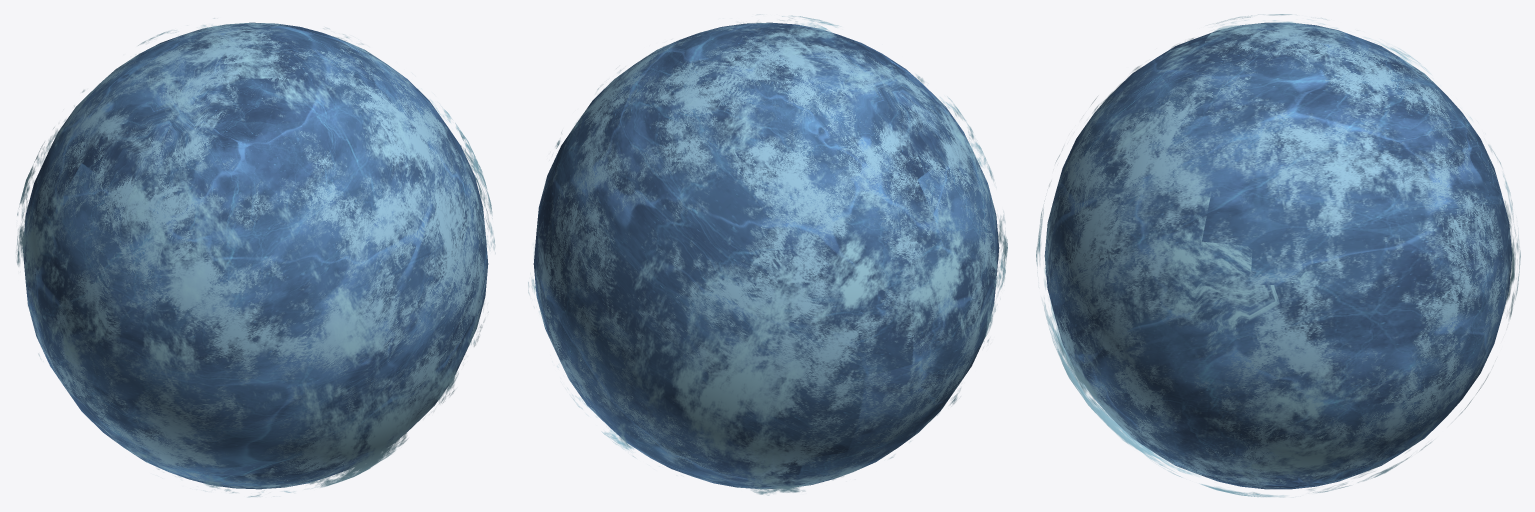
Rendered from Wait.glb.
The picture shows the model from 3 angles, left to right: view 1: azimuth 30°, elevation 25°; view 2: azimuth 150°, elevation 25°; view 3: azimuth 270°, elevation 25°; orthographic projection.
Visible parts, largest first — view 1: WAIt .001, wait ATMOS.001; view 2: WAIt .001, wait ATMOS.001; view 3: WAIt .001, wait ATMOS.001.
Boxes of the visible parts, bbox=[...] form: WAIt .001: bbox=[22, 22, 488, 489]; wait ATMOS.001: bbox=[16, 18, 495, 497]; WAIt .001: bbox=[533, 22, 999, 489]; wait ATMOS.001: bbox=[528, 14, 1007, 495]; WAIt .001: bbox=[1044, 22, 1512, 489]; wait ATMOS.001: bbox=[1036, 14, 1520, 497].
Size of the model in its own units: 2.06 by 2.07 by 2.07.
2 materials, 2 textured.
